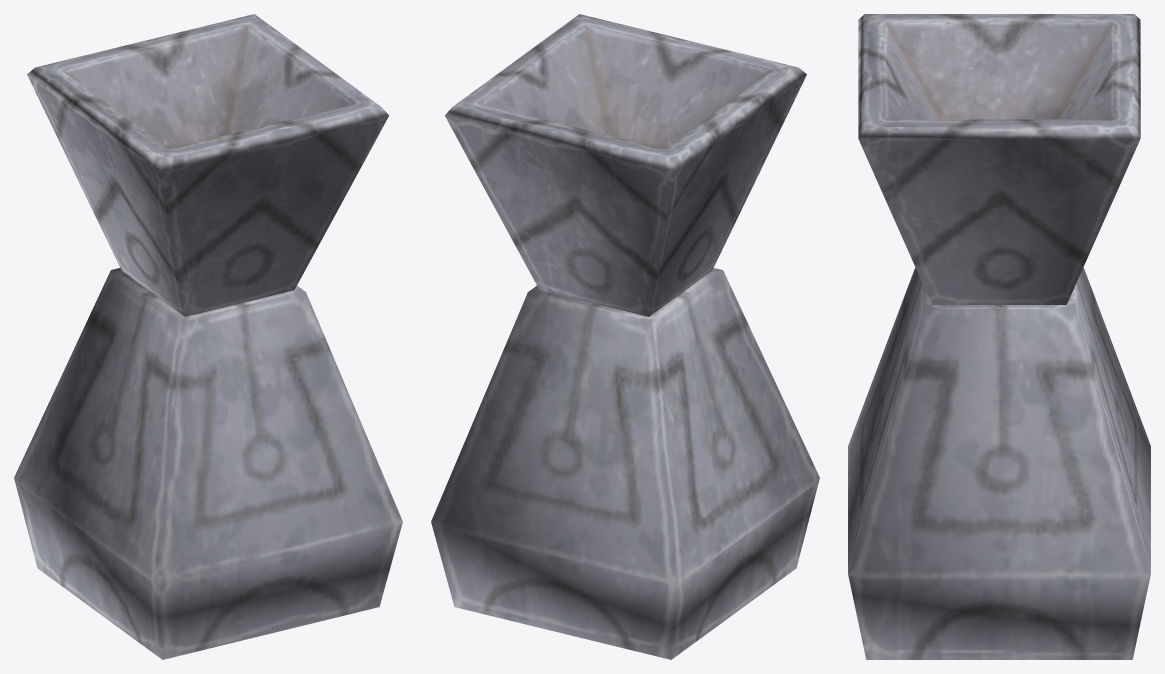
The model's file is Asset_Brasero_01.fbx.
3 views of the same model, side by side, from view 1: azimuth 30°, elevation 25°; view 2: azimuth 150°, elevation 25°; view 3: azimuth 270°, elevation 25° (orthographic). The views are drawn at different scales.
Visible parts, largest first — view 1: Asset_Brasero_01; view 2: Asset_Brasero_01; view 3: Asset_Brasero_01.
Part boxes in pixels (x1=…): Asset_Brasero_01: x1=14, y1=14, x2=402, y2=659; Asset_Brasero_01: x1=431, y1=14, x2=819, y2=659; Asset_Brasero_01: x1=848, y1=14, x2=1150, y2=659.
Size of the model in its own units: 215 by 418 by 215.
